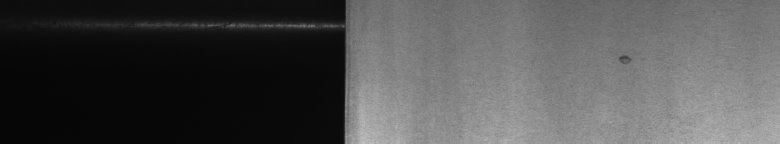fi: (610, 48, 636, 69)
